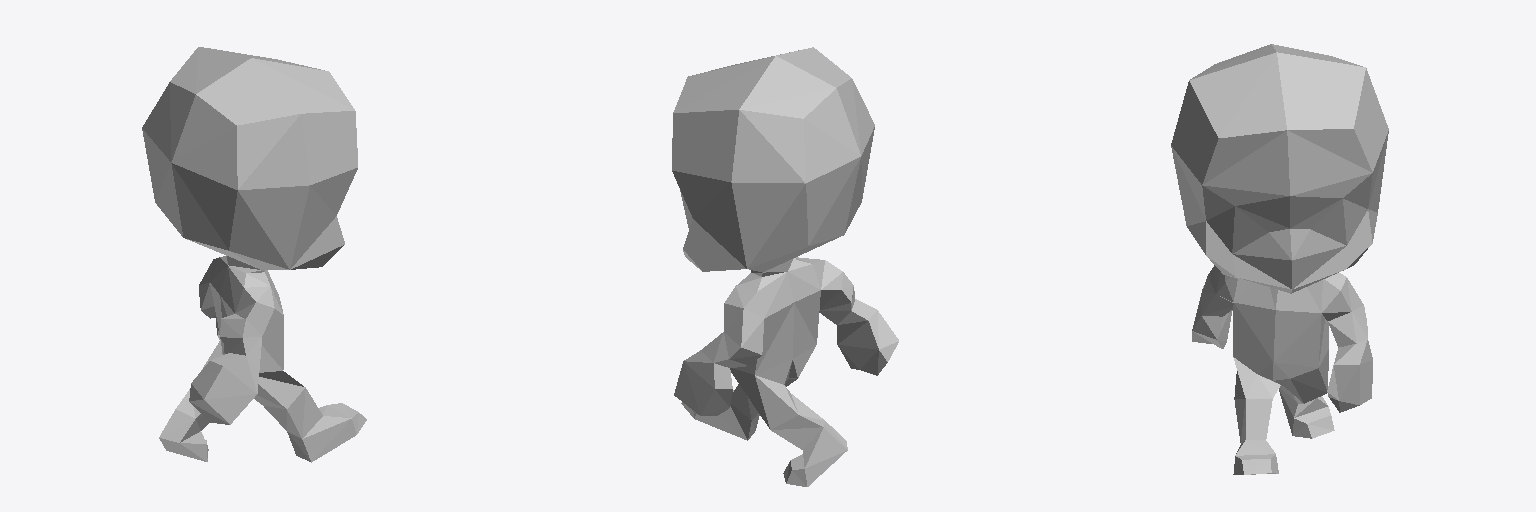
File: male_anim_blender.obj
3 renders of one model, left to right at view 1: azimuth 30°, elevation 25°; view 2: azimuth 150°, elevation 25°; view 3: azimuth 270°, elevation 25°, orthographic.
Visible parts, largest first — view 1: male_anim_milkshape.ms3d.mo_male_anim_milkshape.ms3d.m.001; view 2: male_anim_milkshape.ms3d.mo_male_anim_milkshape.ms3d.m.001; view 3: male_anim_milkshape.ms3d.mo_male_anim_milkshape.ms3d.m.001.
Part boxes in pixels (bbox=[...]): male_anim_milkshape.ms3d.mo_male_anim_milkshape.ms3d.m.001: bbox=[142, 47, 366, 462]; male_anim_milkshape.ms3d.mo_male_anim_milkshape.ms3d.m.001: bbox=[672, 47, 898, 486]; male_anim_milkshape.ms3d.mo_male_anim_milkshape.ms3d.m.001: bbox=[1171, 44, 1388, 474].
Size of the model in its own units: 0.7016 by 1.44 by 0.7101.